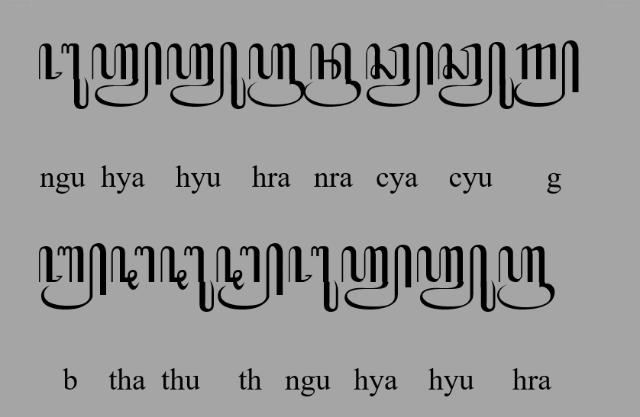-b: (38, 243, 108, 311)
-g: (514, 40, 580, 108)
-th: (216, 243, 284, 311)
cy: (364, 41, 434, 107)
cyu: (438, 41, 514, 111)
hr: (496, 246, 556, 310), (248, 42, 306, 108)
hy: (340, 243, 412, 311), (90, 42, 160, 108)
hyu: (167, 42, 247, 111), (416, 245, 496, 313)
ngu: (288, 244, 340, 314), (39, 42, 89, 110)
nr: (304, 42, 362, 108)
th: (110, 246, 156, 290)
thu: (160, 246, 214, 314)
